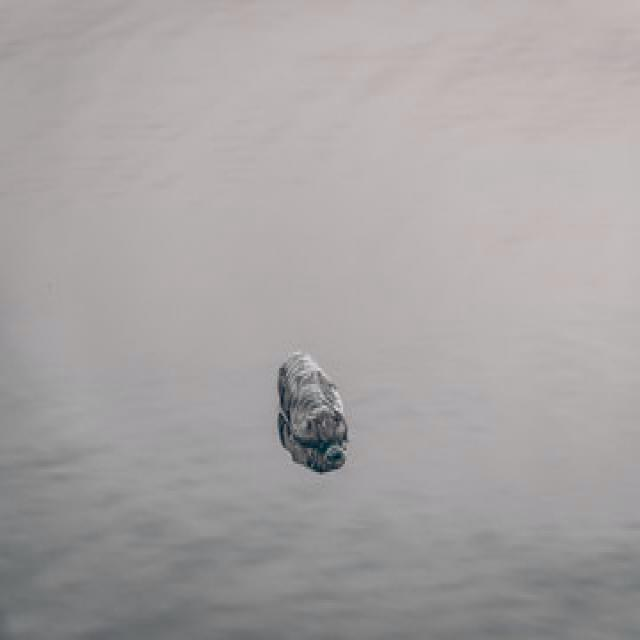Plastic: (273, 352, 353, 472)
